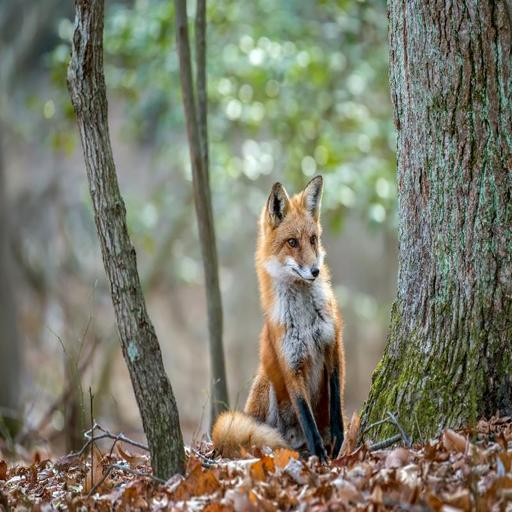Fox: (206, 171, 348, 463)
